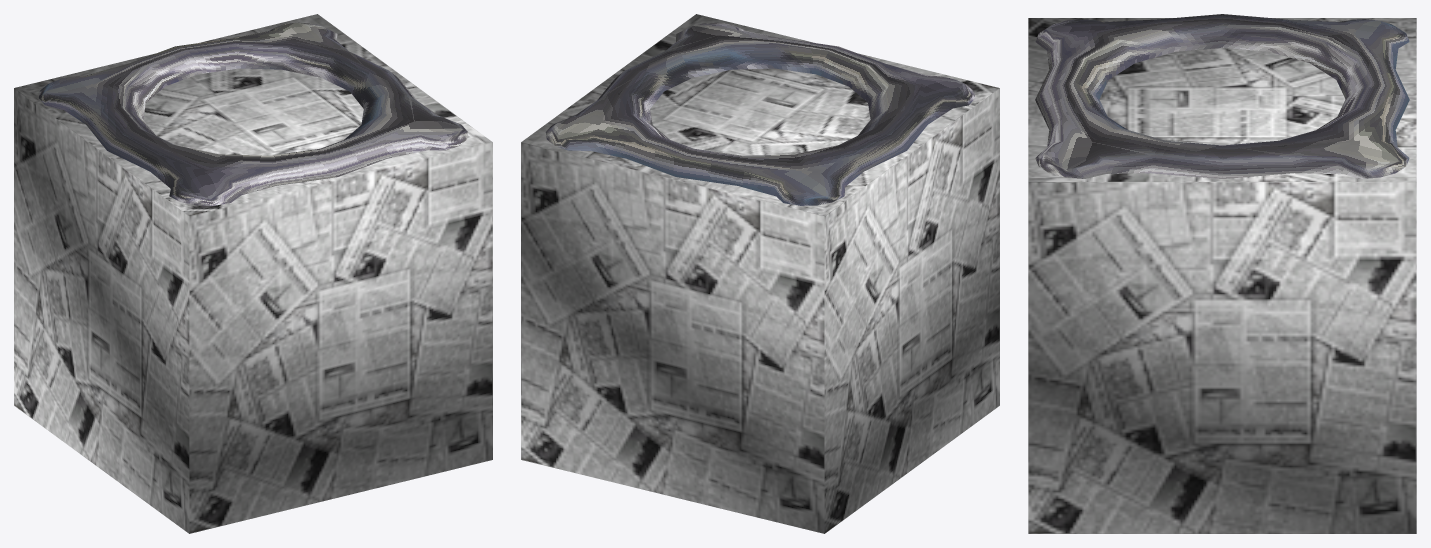
The model's file is paper_transform.glb.
The picture shows the model from 3 angles, left to right: view 1: azimuth 30°, elevation 25°; view 2: azimuth 150°, elevation 25°; view 3: azimuth 270°, elevation 25°; orthographic projection. The views are drawn at different scales.
Parts seen in each view (by area): view 1: PaperTrafo_0; view 2: PaperTrafo_0; view 3: PaperTrafo_0.
Boxes of the visible parts, x1=… form: PaperTrafo_0: x1=14, y1=14, x2=492, y2=533; PaperTrafo_0: x1=521, y1=14, x2=999, y2=533; PaperTrafo_0: x1=1028, y1=14, x2=1416, y2=533.
Bounding box in the file's own units: 5 × 5.24 × 5.
Materials: 3 (3 with a texture image).
